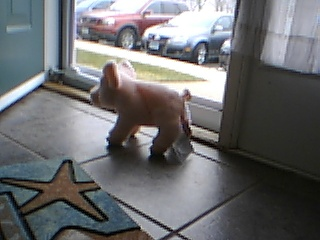piggy: (88, 57, 196, 158)
